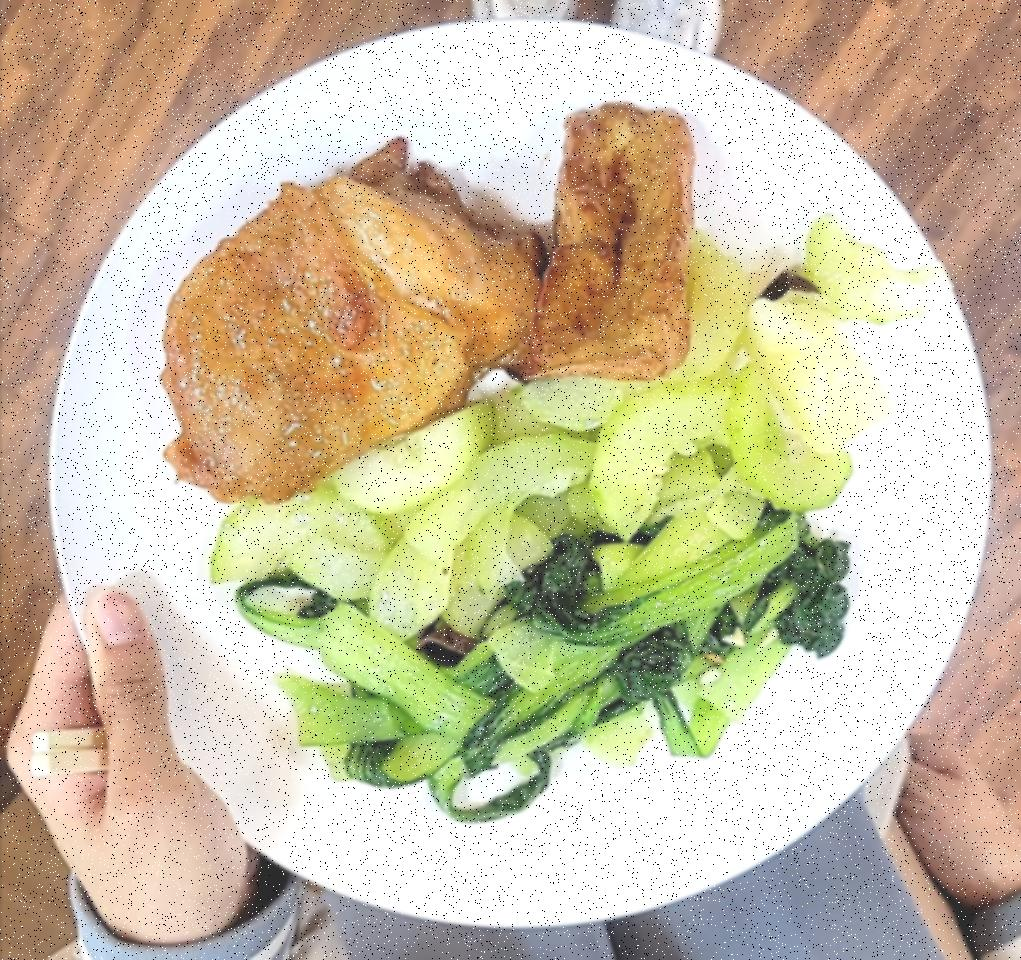big fried chicken leg: (31, 16, 1000, 922)
braised fish fillet: (208, 240, 920, 606), (270, 518, 856, 804), (522, 88, 706, 382)
braised pork: (148, 142, 525, 501)
